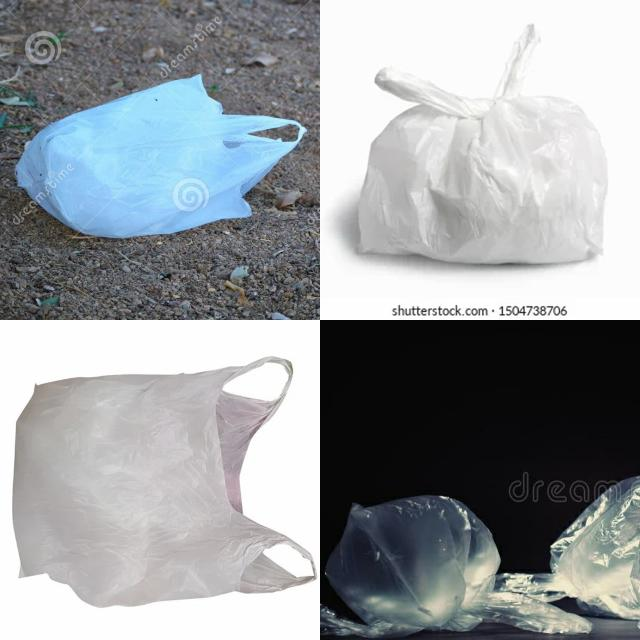Single-layer Plastic: (14, 358, 315, 606), (359, 26, 608, 264), (16, 75, 305, 238), (321, 495, 591, 638), (496, 476, 640, 620)
